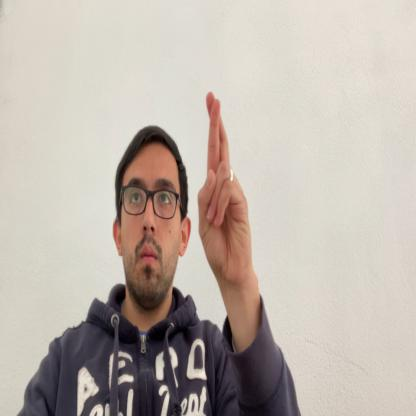R: (197, 92, 252, 284)
